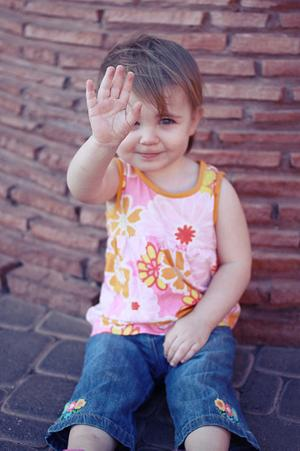person: (67, 35, 252, 451)
